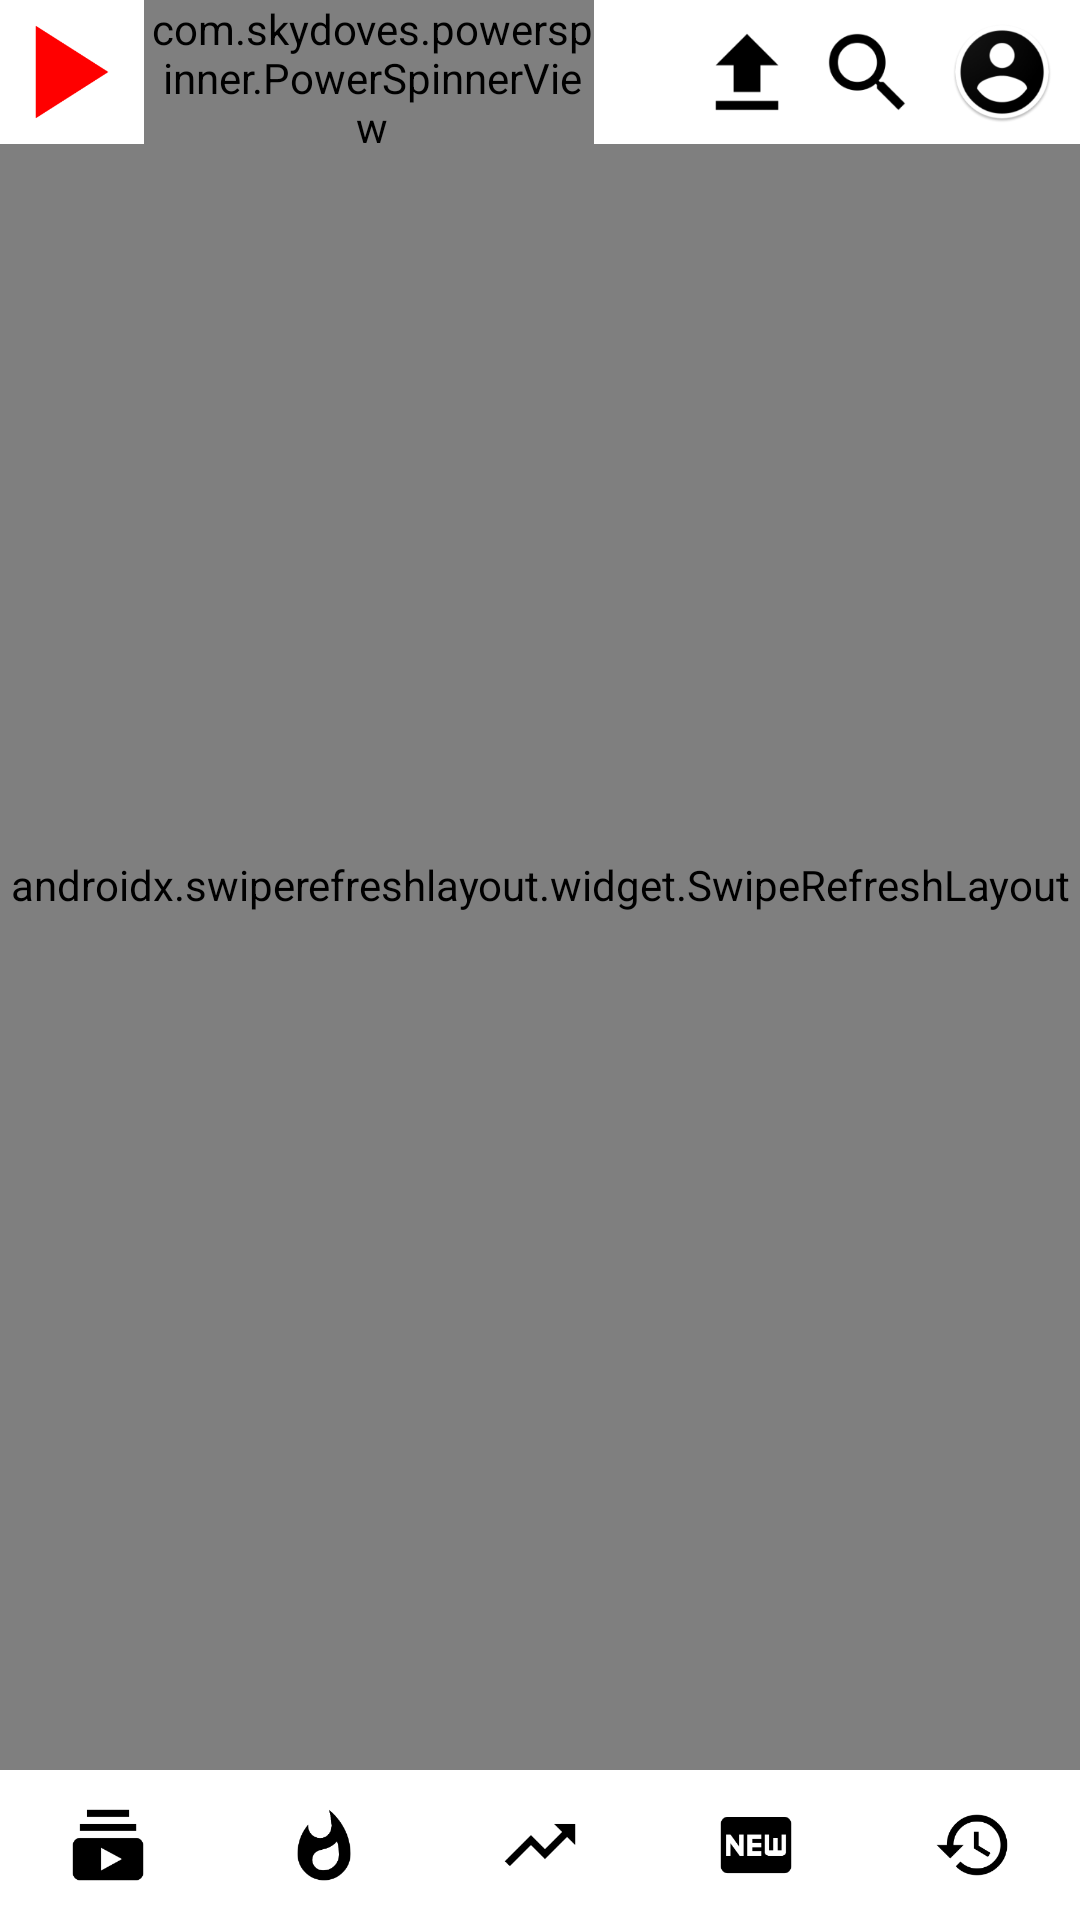

Screen size 1080x1920. Icon name, then its box in pixels as (x1, y1, x2, y2):
file upload: (715, 34, 779, 110)
history: (937, 1814, 1008, 1876)
play arrow: (0, 0, 144, 144)
search: (829, 34, 905, 110)
subscriptions: (72, 1809, 144, 1881)
trending up: (505, 1824, 576, 1866)
whatshot: (297, 1810, 351, 1881)
